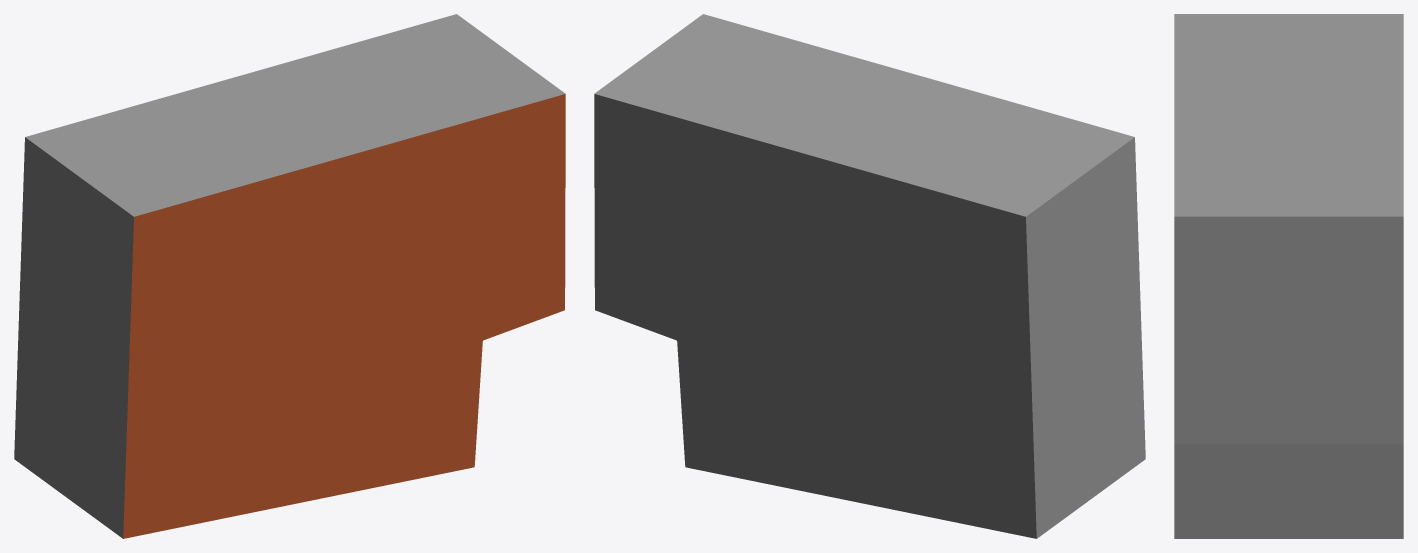
Rendered from construction_1194_assumed_A_Casa_h6m.obj.
3 views of the same model, side by side, from view 1: azimuth 30°, elevation 25°; view 2: azimuth 150°, elevation 25°; view 3: azimuth 270°, elevation 25° (orthographic). The views are drawn at different scales.
Parts seen in each view (by area): view 1: construction_1194_assumed_A_Casa; view 2: construction_1194_assumed_A_Casa; view 3: construction_1194_assumed_A_Casa.
Part boxes in pixels (left/top/right/bottom): construction_1194_assumed_A_Casa: left=14, top=14, right=565, bottom=538; construction_1194_assumed_A_Casa: left=594, top=14, right=1145, bottom=538; construction_1194_assumed_A_Casa: left=1174, top=14, right=1403, bottom=538.
Bounding box in the file's own units: 14.06 × 10.66 × 6.
